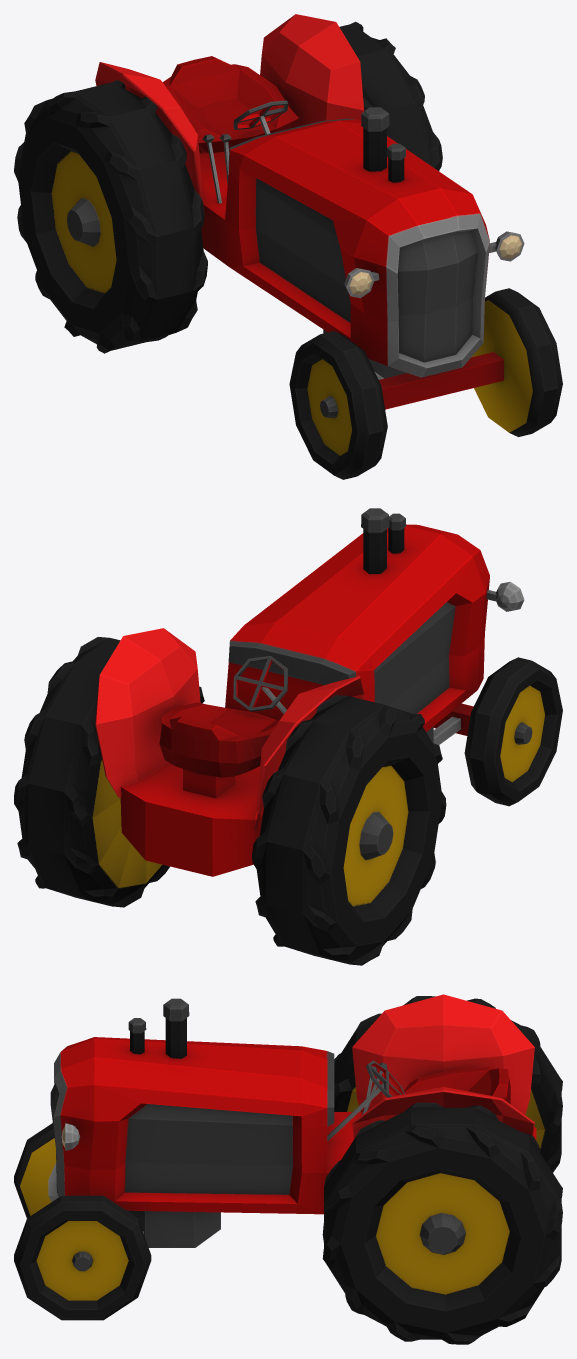
Rendered from tractor.glb.
3 renders of one model, top to bottom at view 1: azimuth 30°, elevation 25°; view 2: azimuth 150°, elevation 25°; view 3: azimuth 270°, elevation 25°, orthographic. The views are drawn at different scales.
Parts seen in each view (by area): view 1: Tractor_mesh; view 2: Tractor_mesh; view 3: Tractor_mesh.
Part boxes in pixels (bbox=[...]): Tractor_mesh: bbox=[14, 14, 562, 479]; Tractor_mesh: bbox=[14, 508, 562, 965]; Tractor_mesh: bbox=[14, 994, 562, 1344].
Bounding box in the file's own units: 9.35 × 8.62 × 15.49.
Materials: 1 (1 with a texture image).
